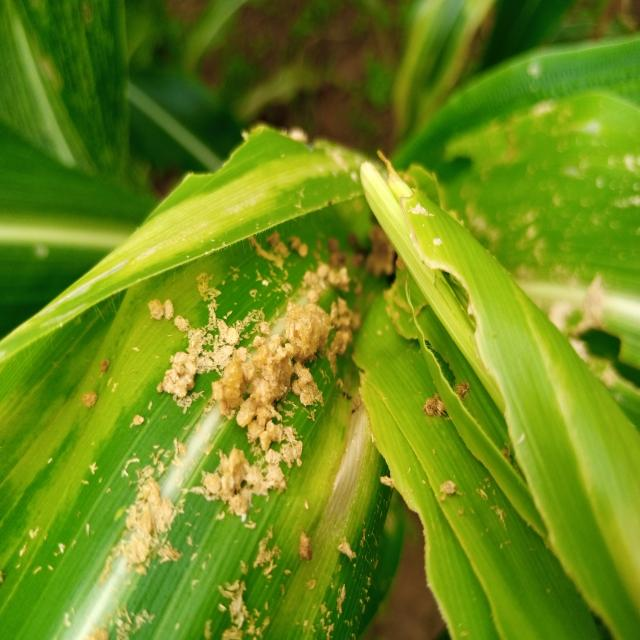fall-armyworm-egg: (114, 224, 346, 506), (0, 332, 137, 620), (525, 108, 640, 326), (324, 231, 415, 310), (416, 470, 527, 533), (425, 384, 479, 436)
fall-armyworm-frass: (100, 478, 396, 640), (140, 275, 289, 431)
fall-armyworm-larval-damage: (575, 269, 640, 430), (378, 142, 470, 216), (422, 251, 494, 333), (334, 365, 392, 415)
